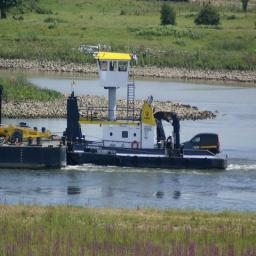tugboat: (63, 48, 234, 175)
